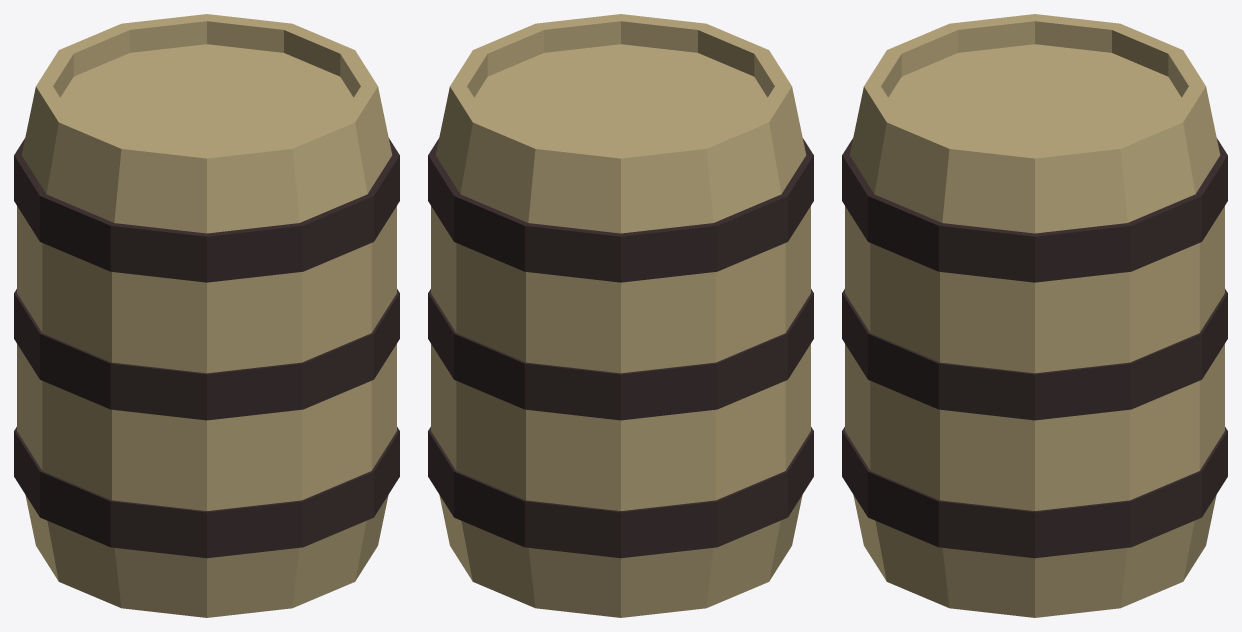
File: barrel.dae
3 renders of one model, left to right at view 1: azimuth 30°, elevation 25°; view 2: azimuth 150°, elevation 25°; view 3: azimuth 270°, elevation 25°, orthographic.
Visible parts, largest first — view 1: mesh; view 2: mesh; view 3: mesh.
Boxes of the visible parts, left/top/right/bottom form: mesh: left=14, top=14, right=399, bottom=617; mesh: left=428, top=14, right=813, bottom=617; mesh: left=842, top=14, right=1227, bottom=617.
Size of the model in its own units: 0.761 by 0.761 by 1.
